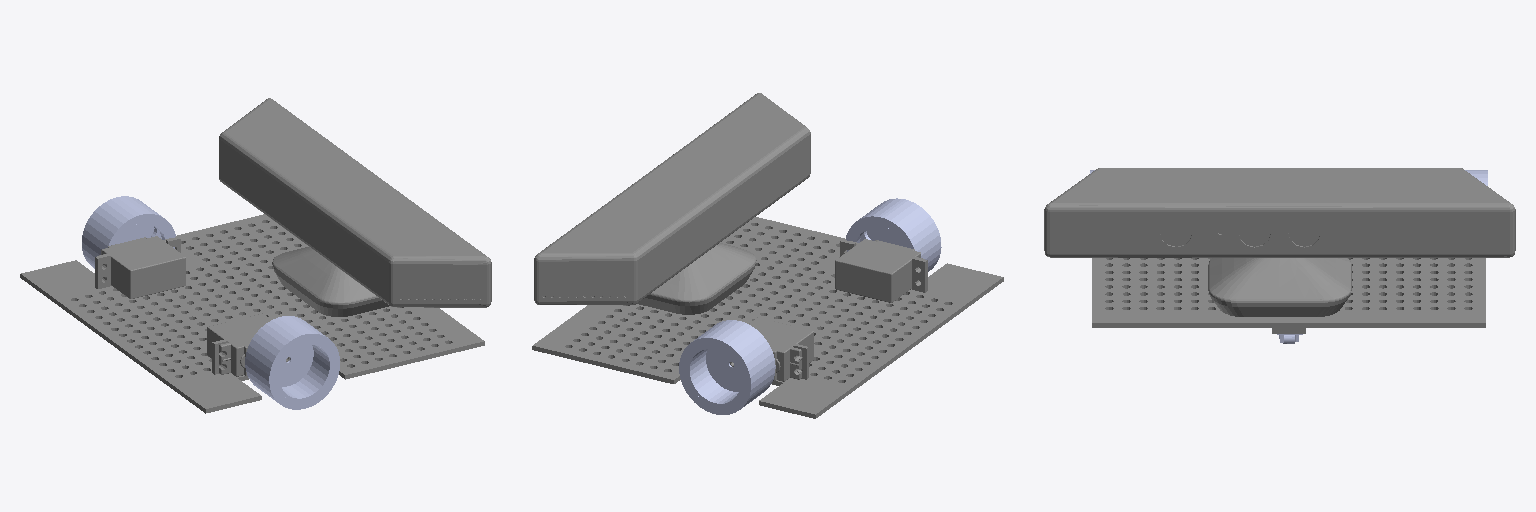
URDF robot description (EnsamblajeFinal):
<?xml version="1.0" encoding="utf-8"?>
<!-- This URDF was automatically created by SolidWorks to URDF Exporter! Originally created by [author] ([email redacted]) 
     Commit Version: 1.6.0-4-g7f85cfe  Build Version: 1.6.7995.38578
     For more information, please see http://wiki.ros.org/sw_urdf_exporter -->
<robot
  name="EnsamblajeFinal">
  <link
    name="base_link">
    <inertial>
      <origin
        xyz="0.043109 -0.004032 0.036005"
        rpy="0 0 0" />
      <mass
        value="0.75414" />
      <inertia
        ixx="0.0031639"
        ixy="-4.8663E-07"
        ixz="-3.0987E-06"
        iyy="0.00076691"
        iyz="-7.2585E-07"
        izz="0.0035191" />
    </inertial>
    <visual>
      <origin
        xyz="0 0 0"
        rpy="0 0 0" />
      <geometry>
        <mesh
          filename="package://my_robot_description/meshes/base_link.STL" />
      </geometry>
      <material
        name="">
        <color
          rgba="0.6 0.6 0.6 1" />
      </material>
    </visual>
    <collision>
      <origin
        xyz="0 0 0"
        rpy="0 0 0" />
      <geometry>
        <mesh
          filename="package://my_robot_description/meshes/base_link.STL" />
      </geometry>
    </collision>
  </link>
  <link
    name="RightWheel_link">
    <inertial>
      <origin
        xyz="0 6.5052E-19 0.014364"
        rpy="0 0 0" />
      <mass
        value="0.033874" />
      <inertia
        ixx="1.0207E-05"
        ixy="-4.8599E-22"
        ixz="1.3665E-22"
        iyy="1.0207E-05"
        iyz="3.7396E-22"
        izz="1.5582E-05" />
    </inertial>
    <visual>
      <origin
        xyz="0 0 0"
        rpy="0 0 0" />
      <geometry>
        <mesh
          filename="package://my_robot_description/meshes/RightWheel_link.STL" />
      </geometry>
      <material
        name="">
        <color
          rgba="0.79216 0.81961 0.93333 1" />
      </material>
    </visual>
    <collision>
      <origin
        xyz="0 0 0"
        rpy="0 0 0" />
      <geometry>
        <mesh
          filename="package://my_robot_description/meshes/RightWheel_link.STL" />
      </geometry>
    </collision>
  </link>
  <joint
    name="RightWheel_joint"
    type="continuous">
    <origin
      xyz="-0.032064 -0.0865 0.01"
      rpy="-1.5708 0 3.1416" />
    <parent
      link="base_link" />
    <child
      link="RightWheel_link" />
    <axis
      xyz="0 0 1" />
    <limit
      effort="100"
      velocity="100" />
    <dynamics
      damping="0.1"
      friction="0.1" />
  </joint>
  <link
    name="LeftWheel_link">
    <inertial>
      <origin
        xyz="-2.7756E-17 -4.12E-18 -0.014364"
        rpy="0 0 0" />
      <mass
        value="0.033874" />
      <inertia
        ixx="1.0207E-05"
        ixy="-1.4844E-21"
        ixz="-7.666E-22"
        iyy="1.0207E-05"
        iyz="-9.1671E-22"
        izz="1.5582E-05" />
    </inertial>
    <visual>
      <origin
        xyz="0 0 0"
        rpy="0 0 0" />
      <geometry>
        <mesh
          filename="package://my_robot_description/meshes/LeftWheel_link.STL" />
      </geometry>
      <material
        name="">
        <color
          rgba="0.79216 0.81961 0.93333 1" />
      </material>
    </visual>
    <collision>
      <origin
        xyz="0 0 0"
        rpy="0 0 0" />
      <geometry>
        <mesh
          filename="package://my_robot_description/meshes/LeftWheel_link.STL" />
      </geometry>
    </collision>
  </link>
  <joint
    name="LeftWheel_join"
    type="continuous">
    <origin
      xyz="-0.032064 0.0865 0.01"
      rpy="-1.5708 0 3.1416" />
    <parent
      link="base_link" />
    <child
      link="LeftWheel_link" />
    <axis
      xyz="0 0 1" />
    <limit
      effort="100"
      velocity="100" />
    <dynamics
      damping="0.1"
      friction="0.1" />
  </joint>
  <link
    name="BaseCastorWheel_link">
    <inertial>
      <origin
        xyz="1.3878E-17 -1.3878E-17 0.0018589"
        rpy="0 0 0" />
      <mass
        value="0.00081529" />
      <inertia
        ixx="1.8443E-08"
        ixy="-1.8943E-10"
        ixz="-5.6617E-25"
        iyy="1.5593E-08"
        iyz="-1.0819E-24"
        izz="2.5253E-08" />
    </inertial>
    <visual>
      <origin
        xyz="0 0 0"
        rpy="0 0 0" />
      <geometry>
        <mesh
          filename="package://my_robot_description/meshes/BaseCastorWheel_link.STL" />
      </geometry>
      <material
        name="">
        <color
          rgba="0.79216 0.81961 0.93333 1" />
      </material>
    </visual>
    <collision>
      <origin
        xyz="0 0 0"
        rpy="0 0 0" />
      <geometry>
        <mesh
          filename="package://my_robot_description/meshes/BaseCastorWheel_link.STL" />
      </geometry>
    </collision>
  </link>
  <joint
    name="BaseCastorWheel_joint"
    type="continuous">
    <origin
      xyz="0.087786 0 -0.007"
      rpy="3.1416 0 0" />
    <parent
      link="base_link" />
    <child
      link="BaseCastorWheel_link" />
    <axis
      xyz="0 0 1" />
    <limit
      effort="100"
      velocity="100" />
    <dynamics
      damping="0.1"
      friction="0.1" />
  </joint>
  <link
    name="CastorWheel_link">
    <inertial>
      <origin
        xyz="0 3.4694E-18 0"
        rpy="0 0 0" />
      <mass
        value="0.00034636" />
      <inertia
        ixx="2.8214E-09"
        ixy="-1.6919E-25"
        ixz="4.7535E-13"
        iyy="2.8214E-09"
        iyz="2.4566E-26"
        izz="2.8142E-09" />
    </inertial>
    <visual>
      <origin
        xyz="0 0 0"
        rpy="0 0 0" />
      <geometry>
        <mesh
          filename="package://my_robot_description/meshes/CastorWheel_link.STL" />
      </geometry>
      <material
        name="">
        <color
          rgba="0.79216 0.81961 0.93333 1" />
      </material>
    </visual>
    <collision>
      <origin
        xyz="0 0 0"
        rpy="0 0 0" />
      <geometry>
        <mesh
          filename="package://my_robot_description/meshes/CastorWheel_link.STL" />
      </geometry>
    </collision>
  </link>
  <joint
    name="CastorWheel_joint"
    type="continuous">
    <origin
      xyz="0 0 0.007"
      rpy="1.5708 0 0" />
    <parent
      link="BaseCastorWheel_link" />
    <child
      link="CastorWheel_link" />
    <axis
      xyz="0 0 1" />
    <limit
      effort="100"
      velocity="100" />
    <dynamics
      damping="0.1"
      friction="0.1" />
  </joint>
</robot>

--- What the picture shows (computed from the rendered views, not written in the file) ---
3 views of the same robot in one strip: view 1: azimuth 30°, elevation 25°; view 2: azimuth 150°, elevation 25°; view 3: azimuth 270°, elevation 25° (orthographic).
Model EnsamblajeFinal with 5 links and 4 joints (4 continuous), rooted at base_link, posed every joint at zero.
Visible links, largest first — view 1: base_link, RightWheel_link, LeftWheel_link; view 2: base_link, LeftWheel_link, RightWheel_link; view 3: base_link.
Link boxes in pixels (x1,y1,x2,y2): base_link: (20, 98, 491, 413); RightWheel_link: (245, 316, 339, 409); LeftWheel_link: (82, 196, 175, 268); base_link: (532, 93, 1003, 418); LeftWheel_link: (679, 320, 775, 414); RightWheel_link: (846, 198, 941, 271); base_link: (1044, 168, 1515, 333).
Bounding box of the posed robot: 0.2 × 0.2755 × 0.089 m (x, y, z).
5 mesh visuals loaded from 5 distinct referenced files (5 binary STL).